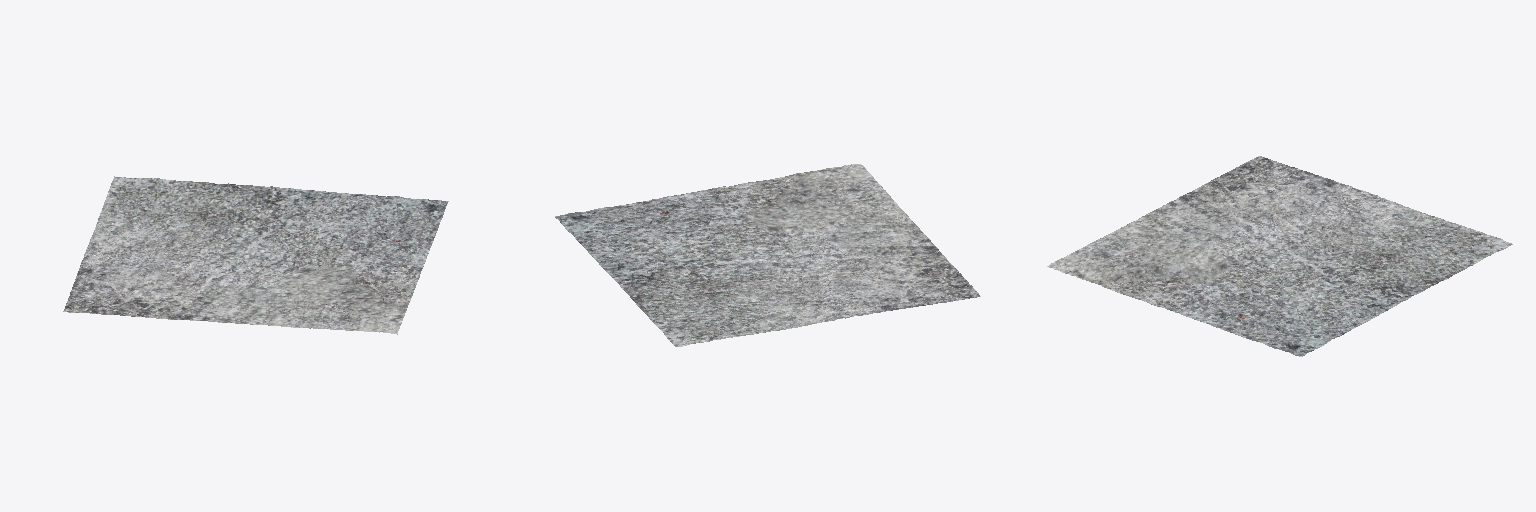
3 views of the same model, side by side, from view 1: azimuth 30°, elevation 25°; view 2: azimuth 150°, elevation 25°; view 3: azimuth 270°, elevation 25° (orthographic).
Parts seen in each view (by area): view 1: texture_0; view 2: texture_0; view 3: texture_0.
Boxes of the visible parts, box(x1,y1,x2,y2) form: texture_0: box(63, 176, 448, 334); texture_0: box(555, 164, 980, 346); texture_0: box(1047, 156, 1512, 356).
Size of the model in its own units: 0.508 by 0.0065 by 0.5062.
Materials: 1 (1 with a texture image).